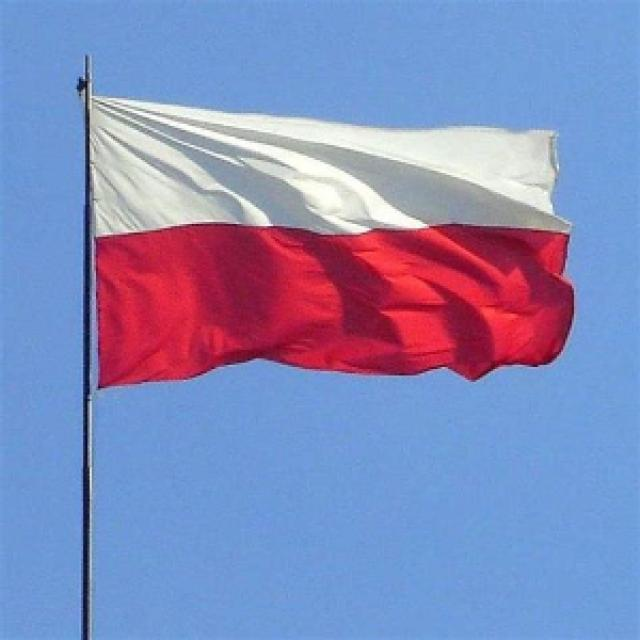poland: (62, 62, 563, 392)
